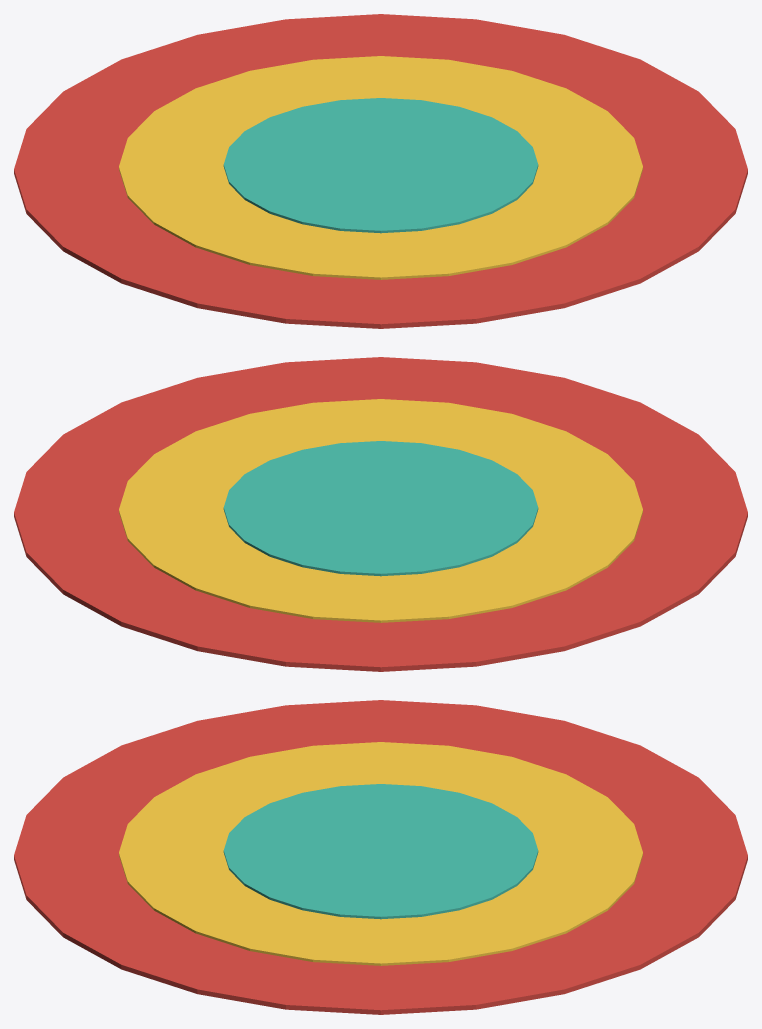
The model's file is Kitchen_Rug.fbx.
3 renders of one model, top to bottom at view 1: azimuth 30°, elevation 25°; view 2: azimuth 150°, elevation 25°; view 3: azimuth 270°, elevation 25°, orthographic.
Visible parts, largest first — view 1: Rug; view 2: Rug; view 3: Rug.
Boxes of the visible parts, bbox=[...] form: Rug: bbox=[14, 14, 747, 328]; Rug: bbox=[14, 357, 747, 671]; Rug: bbox=[14, 700, 747, 1014].
Size of the model in its own units: 2.8 by 0.04 by 2.8.
